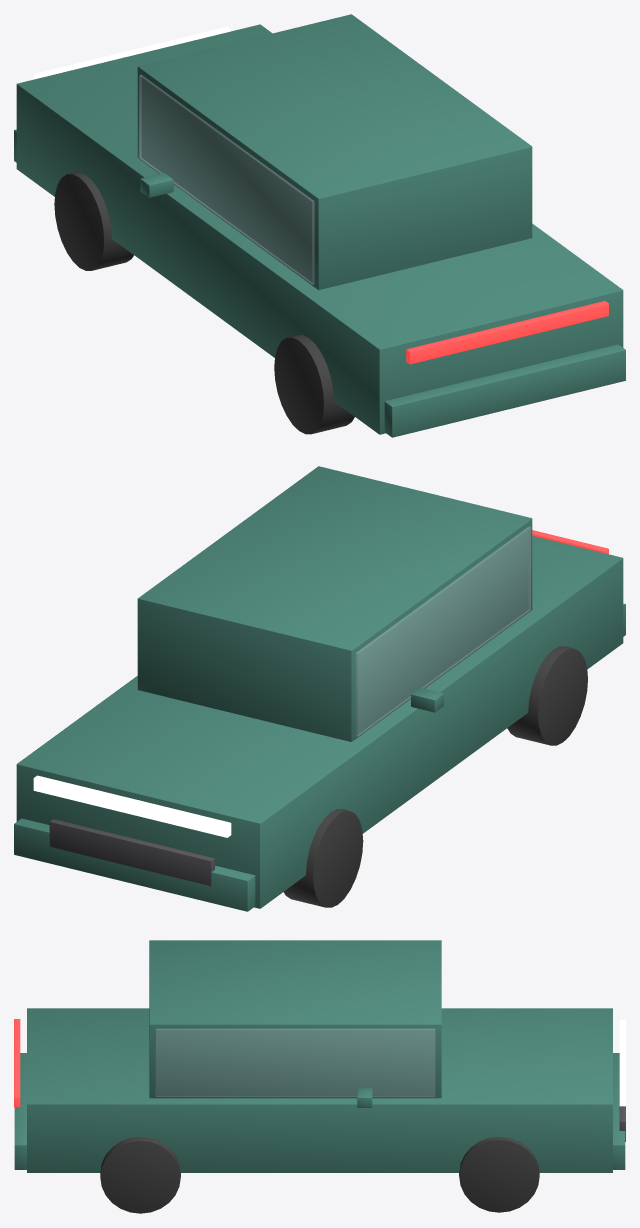
The model's file is vehicle.glb.
3 views of the same model, one above another, from view 1: azimuth 30°, elevation 25°; view 2: azimuth 150°, elevation 25°; view 3: azimuth 270°, elevation 25° (orthographic). The views are drawn at different scales.
Visible parts, largest first — view 1: BODY_Roof, BODY_Main, GLASS_Greenhouse, BODY_Bumpers_Rear, WHEEL_RR_Tire, WHEEL_FR_Tire, LIGHT_Taillights, LIGHT_Headlights, BODY_Mirror_R; view 2: BODY_Roof, BODY_Main, GLASS_Greenhouse, BODY_Bumpers_Front, WHEEL_RR_Tire, BODY_Grille, WHEEL_FR_Tire, LIGHT_Headlights, BODY_Mirror_R; view 3: BODY_Main, BODY_Roof, GLASS_Greenhouse, WHEEL_RL_Tire, WHEEL_FL_Tire, BODY_Bumpers_Rear, BODY_Bumpers_Front, LIGHT_Taillights, LIGHT_Headlights.
Boxes of the visible parts, left/top/right/bottom form: BODY_Roof: left=137, top=14, right=532, bottom=290; BODY_Main: left=16, top=24, right=623, bottom=434; GLASS_Greenhouse: left=139, top=75, right=314, bottom=284; BODY_Bumpers_Rear: left=384, top=344, right=625, bottom=437; WHEEL_RR_Tire: left=274, top=335, right=354, bottom=434; WHEEL_FR_Tire: left=54, top=172, right=133, bottom=270; LIGHT_Taillights: left=406, top=301, right=608, bottom=364; LIGHT_Headlights: left=33, top=26, right=231, bottom=79; BODY_Mirror_R: left=140, top=173, right=173, bottom=197; BODY_Roof: left=137, top=466, right=532, bottom=741; BODY_Main: left=16, top=535, right=623, bottom=908; GLASS_Greenhouse: left=356, top=527, right=530, bottom=736; BODY_Bumpers_Front: left=14, top=818, right=255, bottom=911; WHEEL_RR_Tire: left=507, top=646, right=587, bottom=745; BODY_Grille: left=49, top=819, right=214, bottom=886; WHEEL_FR_Tire: left=283, top=809, right=363, bottom=907; LIGHT_Headlights: left=33, top=775, right=231, bottom=837; BODY_Mirror_R: left=411, top=687, right=443, bottom=712; BODY_Main: left=27, top=1008, right=612, bottom=1172; BODY_Roof: left=149, top=940, right=441, bottom=1098; GLASS_Greenhouse: left=156, top=1029, right=434, bottom=1096; WHEEL_RL_Tire: left=100, top=1136, right=180, bottom=1213; WHEEL_FL_Tire: left=459, top=1136, right=539, bottom=1212; BODY_Bumpers_Rear: left=14, top=1053, right=26, bottom=1169; BODY_Bumpers_Front: left=613, top=1053, right=625, bottom=1169; LIGHT_Taillights: left=14, top=1019, right=20, bottom=1107; LIGHT_Headlights: left=619, top=1020, right=625, bottom=1106.
Bounding box in the file's own units: 2.18 × 1.57 × 4.86.
